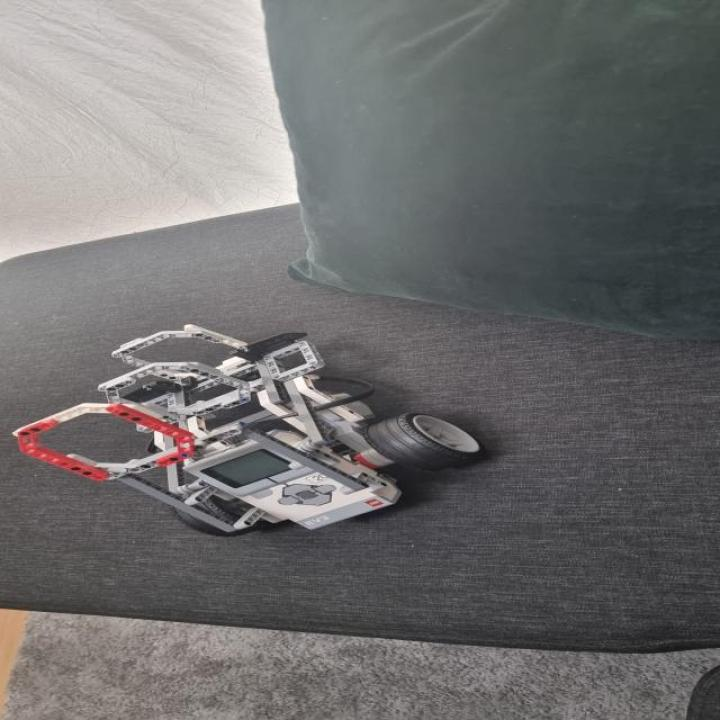robot: (9, 323, 488, 539)
